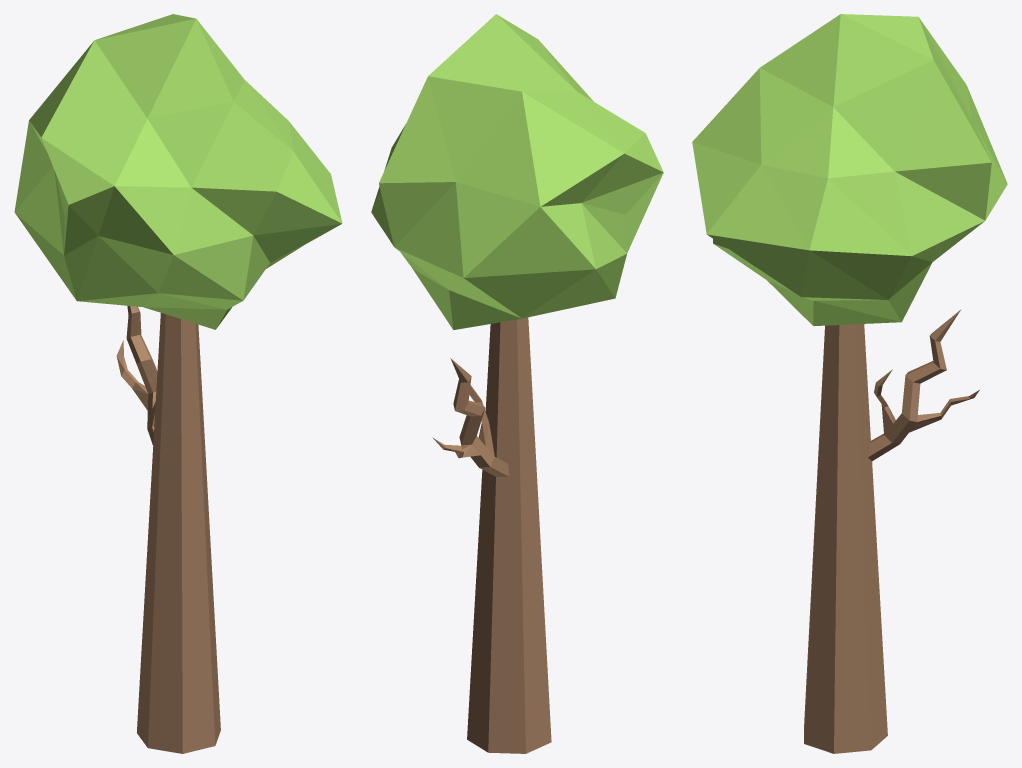
Rendered from Sc_arbol_3.fbx.
The picture shows the model from 3 angles, left to right: view 1: azimuth 30°, elevation 25°; view 2: azimuth 150°, elevation 25°; view 3: azimuth 270°, elevation 25°; orthographic projection. The views are drawn at different scales.
Parts seen in each view (by area): view 1: Cylinder_006; view 2: Cylinder_006; view 3: Cylinder_006.
Boxes of the visible parts, <box> form: Cylinder_006: <box>14,14,342,753</box>; Cylinder_006: <box>371,14,663,753</box>; Cylinder_006: <box>692,14,1007,753</box>.
Size of the model in its own units: 500 by 1281 by 502.
